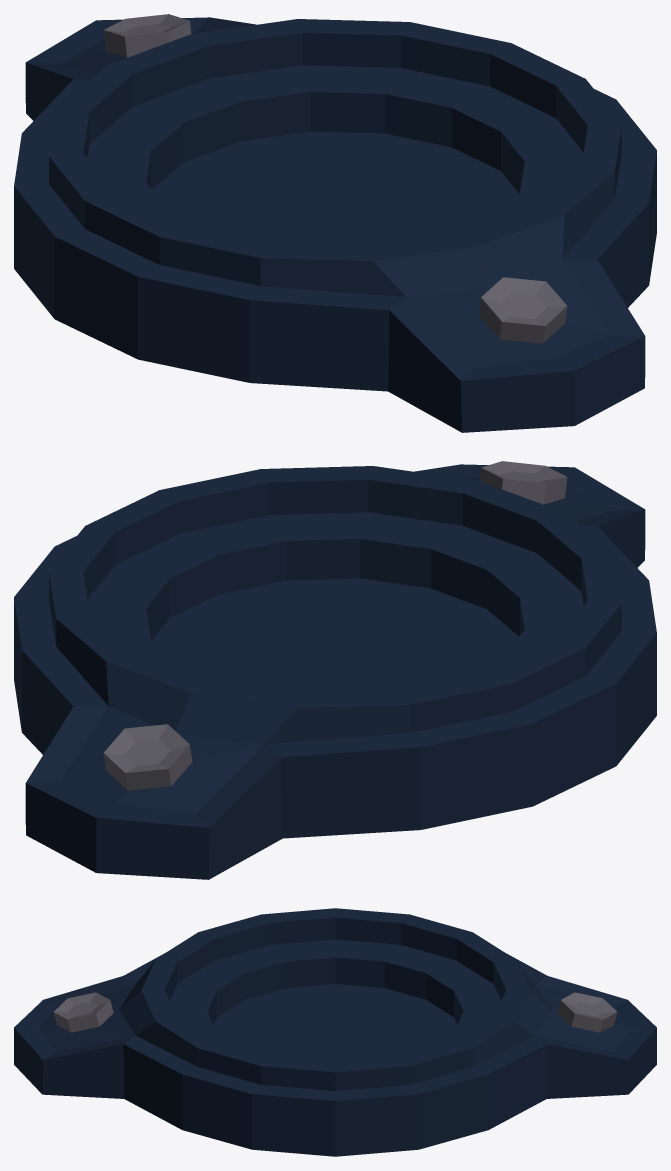
File: BUTTON DOWN.fbx
3 renders of one model, top to bottom at view 1: azimuth 30°, elevation 25°; view 2: azimuth 150°, elevation 25°; view 3: azimuth 270°, elevation 25°, orthographic. The views are drawn at different scales.
Visible parts, largest first — view 1: Circle.010; view 2: Circle.010; view 3: Circle.010.
Part boxes in pixels (<box>): Circle.010: <box>14,14,656,432</box>; Circle.010: <box>14,461,656,879</box>; Circle.010: <box>14,908,656,1156</box>.
Bounding box in the file's own units: 68.65 × 13.01 × 101.
